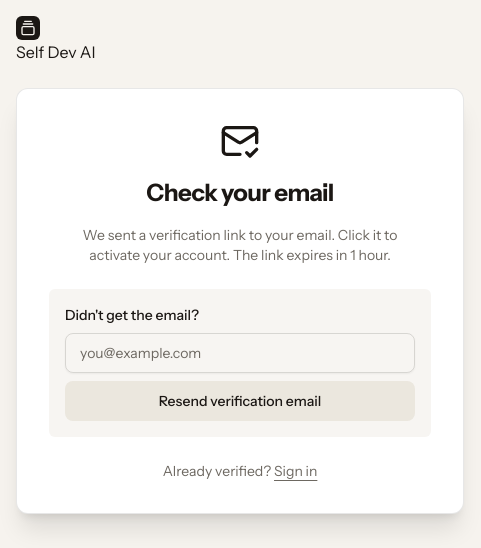
Test case: CheckEmailPage › disables the form while sending
Type "test@example.com" into the field with placeholder "you@example.com". click: [240, 353]
box: x1=65 y1=333 x2=415 y2=373
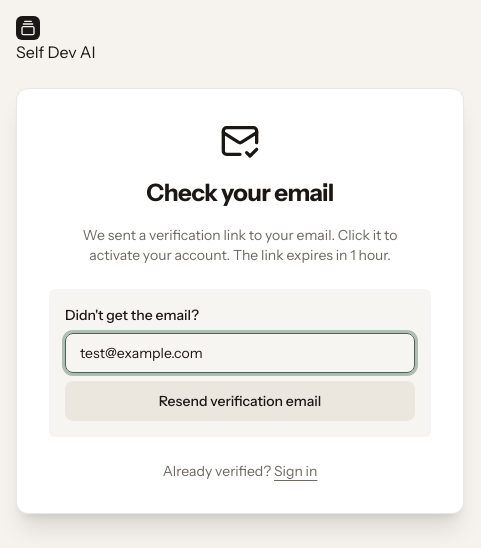
Click the button "Resend verification email". click: [240, 401]
box: x1=65 y1=381 x2=415 y2=421
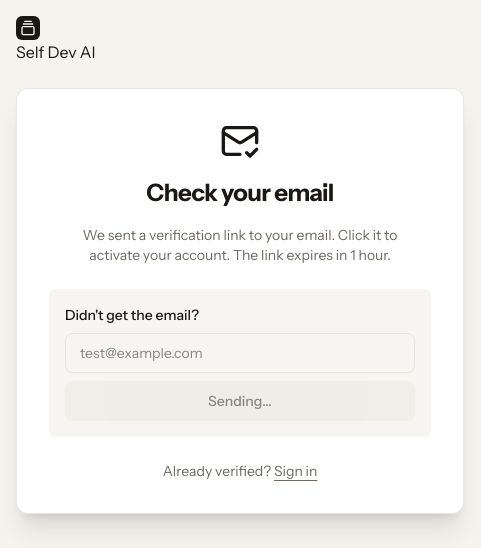
Now the button "Sending…" is disabled, box x1=65 y1=381 x2=415 y2=421
